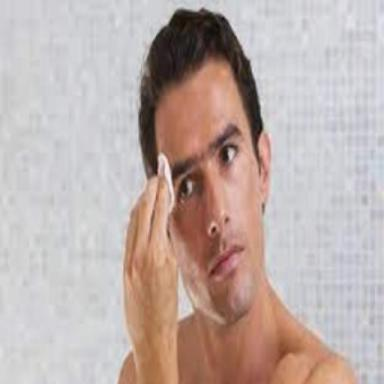normal skin: (156, 59, 353, 384), (119, 176, 179, 384)
